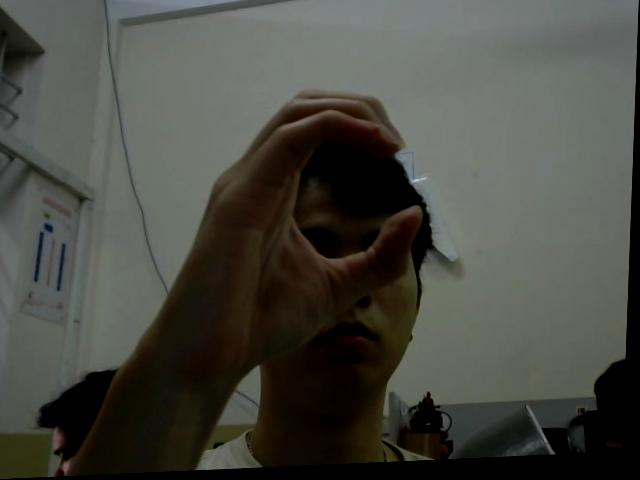C: (178, 85, 429, 382)
